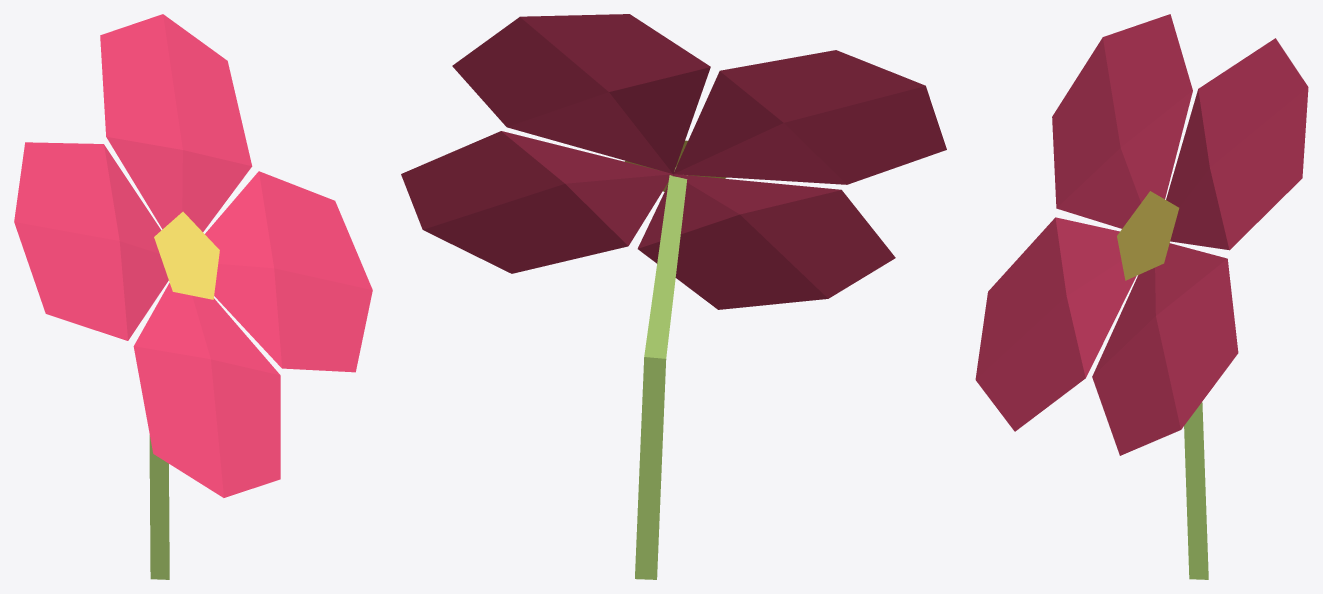
The model's file is Flower_c_TwoS_08.fbx.
The picture shows the model from 3 angles, left to right: view 1: azimuth 30°, elevation 25°; view 2: azimuth 150°, elevation 25°; view 3: azimuth 270°, elevation 25°; orthographic projection. The views are drawn at different scales.
Parts seen in each view (by area): view 1: Flower_c_TwoS_08; view 2: Flower_c_TwoS_08; view 3: Flower_c_TwoS_08.
Boxes of the visible parts, x1,y1,x2,y2 form: Flower_c_TwoS_08: [14, 14, 372, 579]; Flower_c_TwoS_08: [401, 14, 946, 579]; Flower_c_TwoS_08: [975, 14, 1308, 579].
Size of the model in its own units: 28.78 by 36.03 by 20.6.
